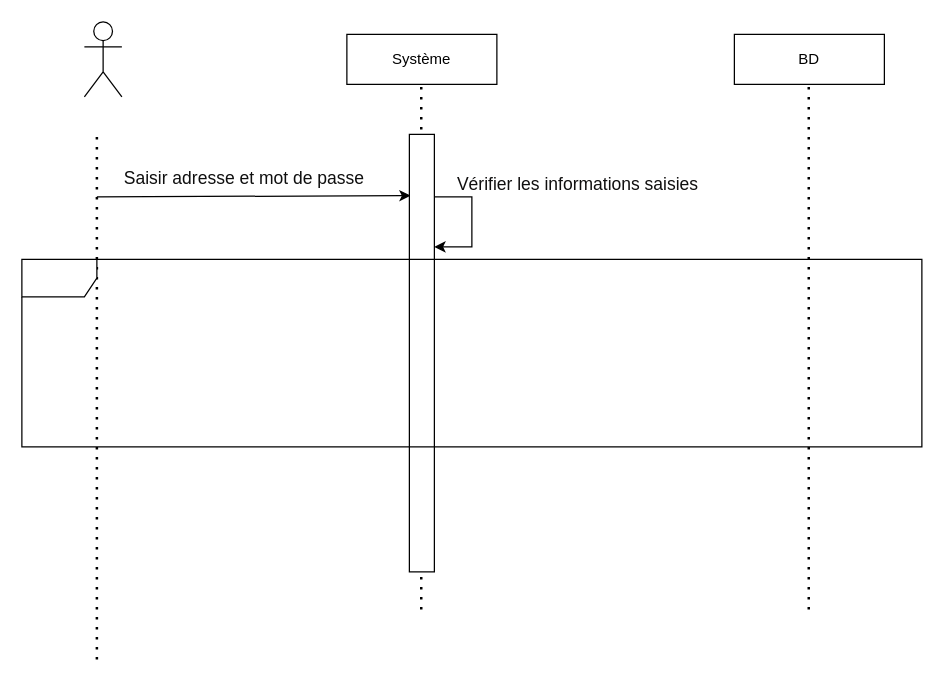
Image size: 944x684. Some labels were removed from this diagram. Here are the shapes that lost their labels. From the top down, the centre of each, then its label:
At point 102,59: "Utilisateur".
At point 471,352: "frame".
